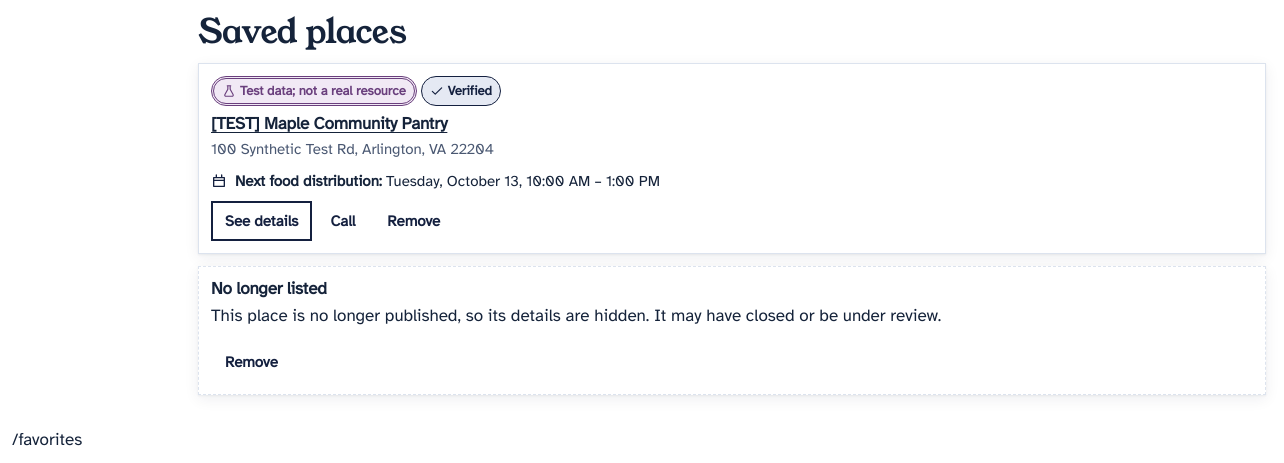
Test: FavoritesPage › lists saved places, hides unpublished ones, and removes with CSRF
expect the link "[TEST] Maple Community Pantry" is shown: met, box [211,114,447,134]
expect the heading "No longer listed" is shown: met, box [211,278,327,299]
Step 1. Click the button named "Remove [TEST] Maple Community Pantry" → (414, 221), box [373,201,454,241]
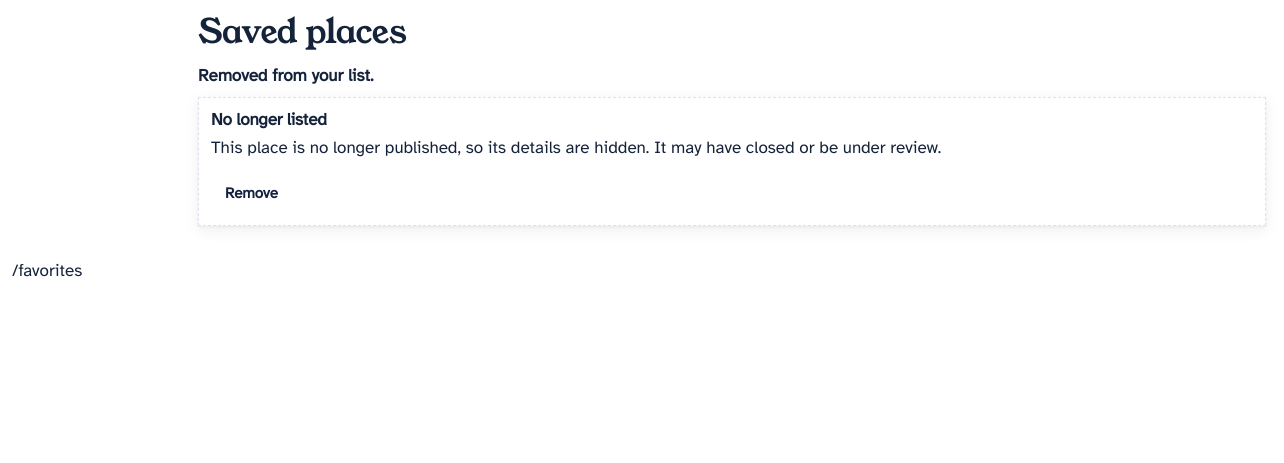
expect the link "[TEST] Maple Community Pantry" is gone: met
expect the text "Removed from your list." is shown: met, box [198,65,374,86]
